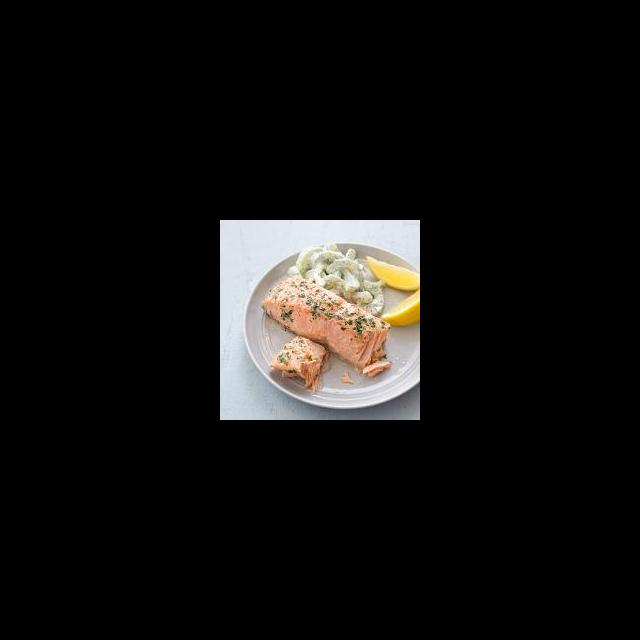ca hoi: (260, 273, 392, 381), (268, 334, 328, 394)
